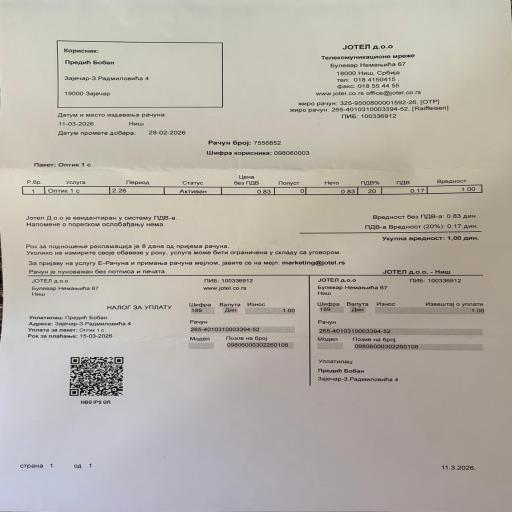jotel: (21, 173, 490, 195)
jotel_uplatnica: (315, 300, 494, 355)
